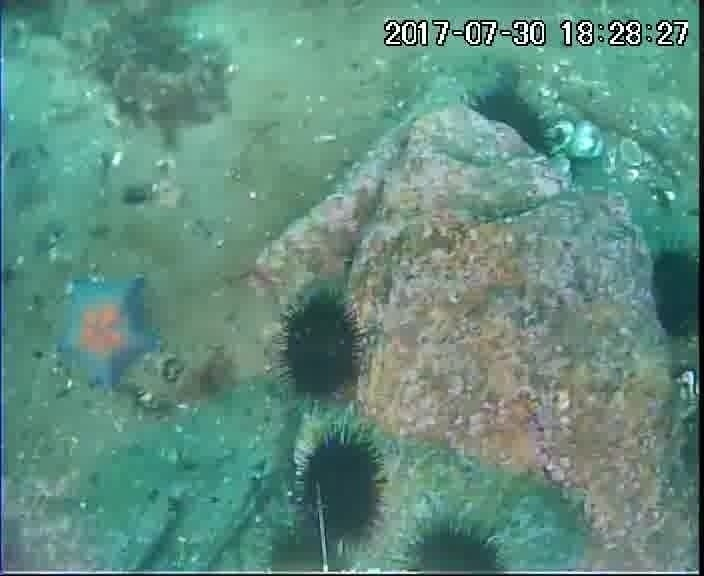echinus: (296, 427, 389, 545), (274, 290, 368, 402), (467, 82, 557, 162), (400, 515, 508, 572), (646, 242, 702, 346), (263, 521, 366, 571)
starfish: (51, 273, 163, 393)
